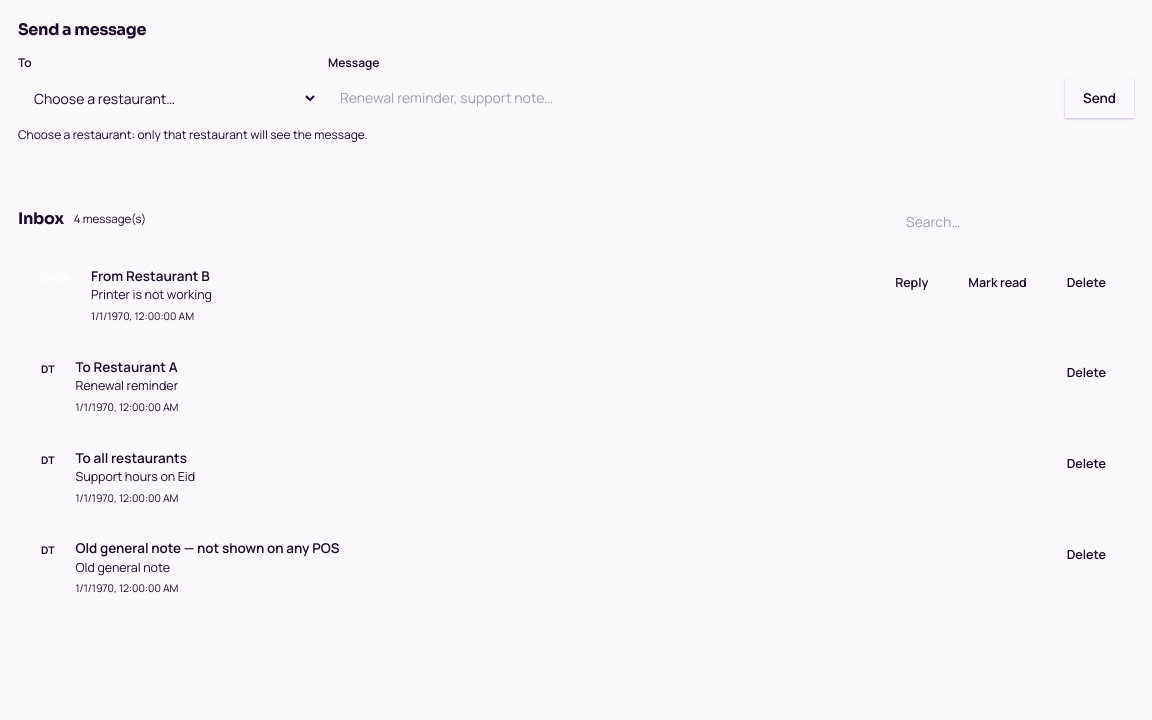
Test case: Super Admin → Support › a message to one restaurant carries only that restaurant’s key
Later steps or results of the test are not shown.
Select "Restaurant A" in the dropdown labelled "To": [168, 98] box [18,78,318,118]
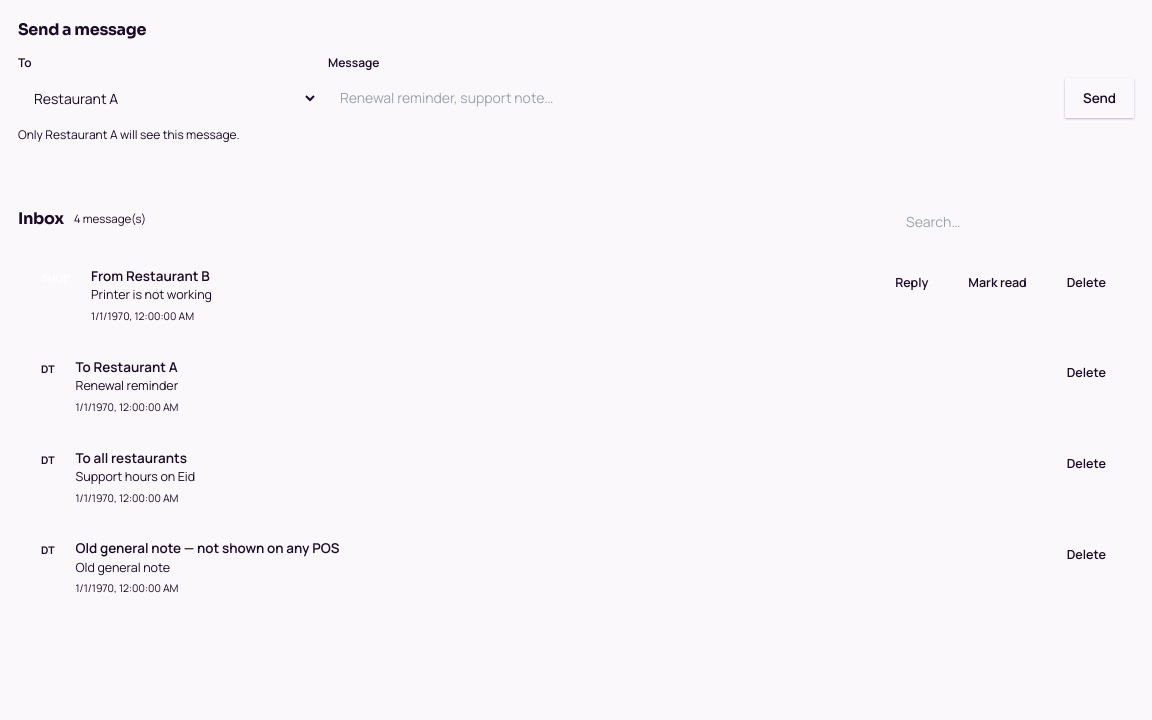
In the field labelled "Message": [692, 98] box [328,78,1055,118], type "Your renewal is due"
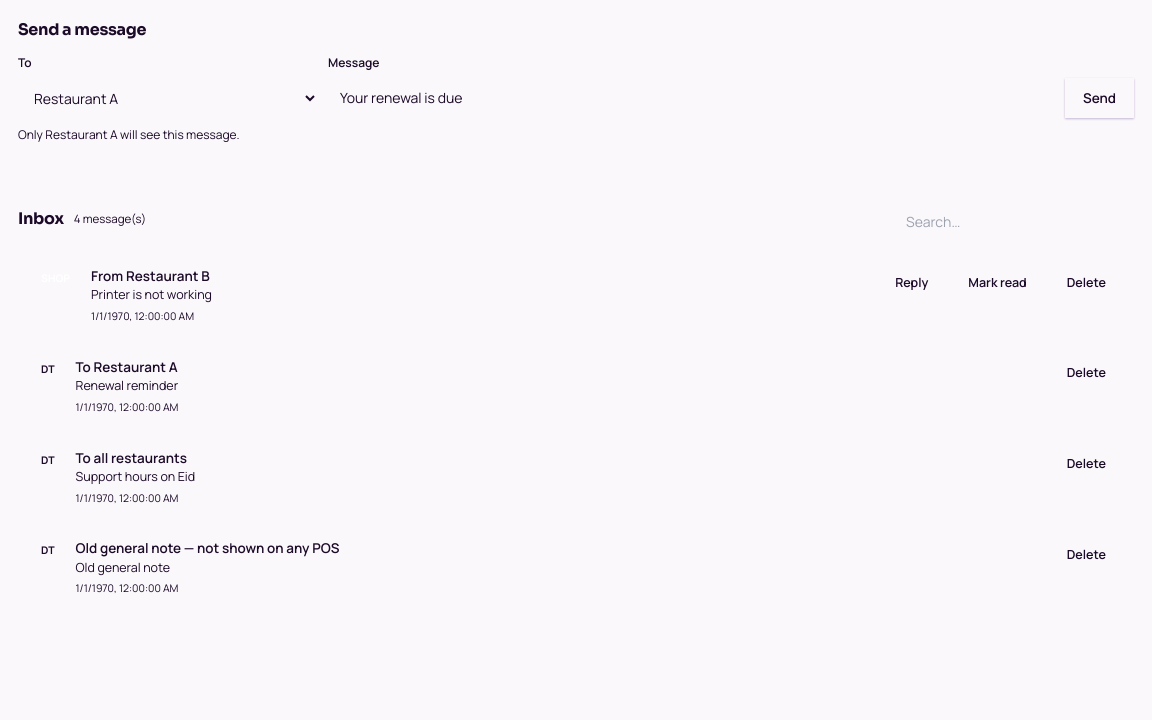
Result: the text "Only Restaurant A will see this message." is shown at [18,126,239,143]
